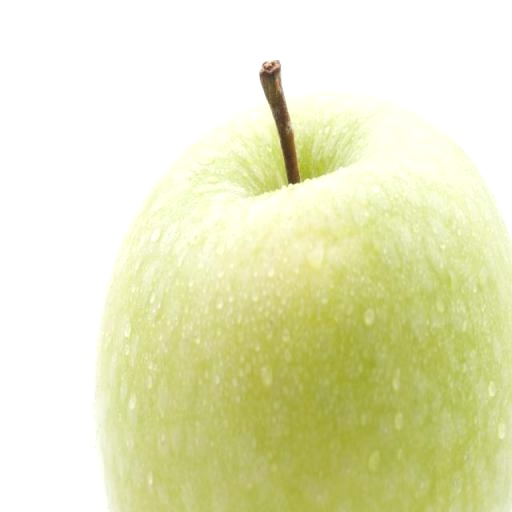fruit: (95, 93, 511, 511)
